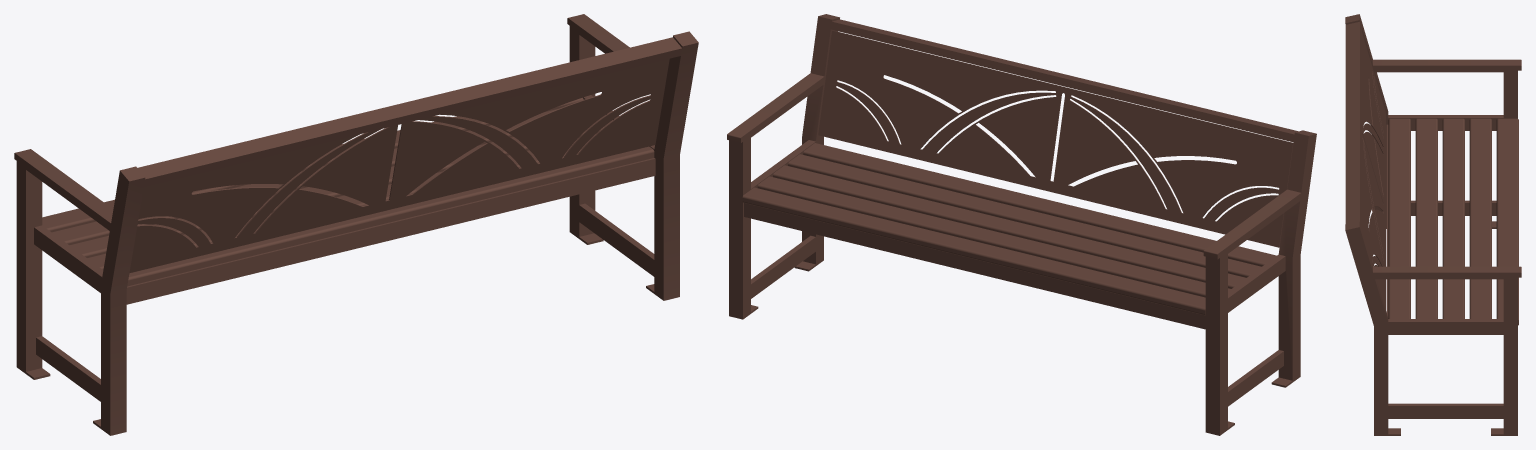
The picture shows the model from 3 angles, left to right: view 1: azimuth 30°, elevation 25°; view 2: azimuth 150°, elevation 25°; view 3: azimuth 270°, elevation 25°; orthographic projection. The views are drawn at different scales.
Parts seen in each view (by area): view 1: mesh16_mesh16-geometry, mesh1_mesh1-geometry, mesh19_mesh19-geometry, mesh23_mesh23-geometry, mesh21_mesh21-geometry, mesh22_mesh22-geometry, mesh20_mesh20-geometry; view 2: mesh1_mesh1-geometry, mesh16_mesh16-geometry, mesh21_mesh21-geometry, mesh23_mesh23-geometry, mesh19_mesh19-geometry, mesh22_mesh22-geometry, mesh20_mesh20-geometry; view 3: mesh16_mesh16-geometry, mesh1_mesh1-geometry, mesh19_mesh19-geometry, mesh20_mesh20-geometry, mesh22_mesh22-geometry, mesh23_mesh23-geometry, mesh21_mesh21-geometry.
Boxes of the visible parts, x1,y1,x2,y2 form: mesh16_mesh16-geometry: [14, 14, 698, 435]; mesh1_mesh1-geometry: [129, 58, 669, 273]; mesh19_mesh19-geometry: [127, 146, 654, 286]; mesh23_mesh23-geometry: [52, 108, 559, 244]; mesh21_mesh21-geometry: [42, 97, 583, 232]; mesh22_mesh22-geometry: [69, 115, 612, 257]; mesh20_mesh20-geometry: [87, 134, 595, 269]; mesh1_mesh1-geometry: [818, 30, 1293, 247]; mesh16_mesh16-geometry: [727, 14, 1316, 435]; mesh21_mesh21-geometry: [742, 187, 1205, 315]; mesh23_mesh23-geometry: [757, 176, 1230, 297]; mesh19_mesh19-geometry: [803, 143, 1276, 266]; mesh22_mesh22-geometry: [773, 165, 1245, 288]; mesh20_mesh20-geometry: [788, 154, 1261, 277]; mesh16_mesh16-geometry: [1345, 14, 1521, 435]; mesh1_mesh1-geometry: [1362, 32, 1385, 309]; mesh19_mesh19-geometry: [1388, 118, 1410, 318]; mesh20_mesh20-geometry: [1415, 118, 1437, 318]; mesh22_mesh22-geometry: [1442, 118, 1464, 318]; mesh23_mesh23-geometry: [1469, 118, 1491, 318]; mesh21_mesh21-geometry: [1496, 118, 1518, 325].
Bounding box in the file's own units: 0.8666 × 0.3962 × 0.3033.
